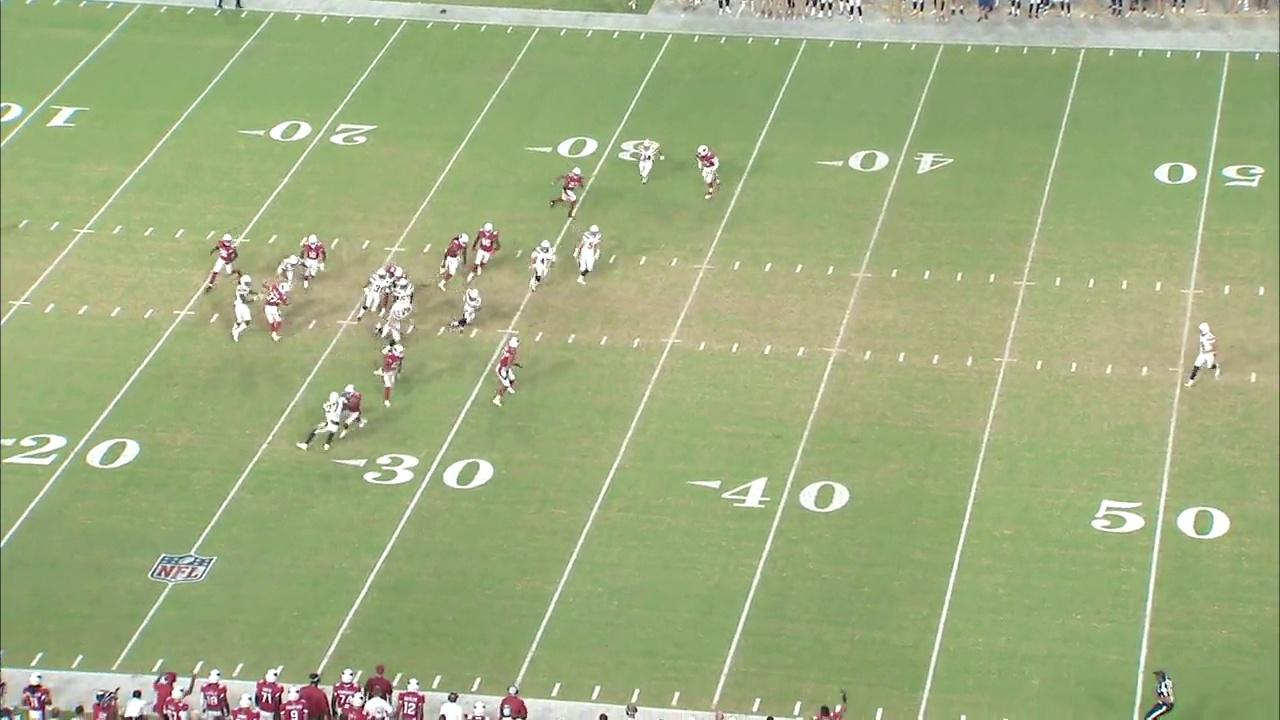five_hash: (1012, 279, 1039, 288), (172, 308, 198, 317), (992, 356, 1020, 364), (658, 337, 684, 345), (8, 299, 33, 307), (1179, 288, 1206, 295), (336, 318, 359, 326), (692, 263, 717, 270), (72, 227, 96, 234), (496, 328, 521, 334), (823, 347, 848, 353), (384, 246, 406, 252), (850, 273, 874, 278), (233, 237, 252, 243)
hash: (42, 301, 57, 317), (636, 253, 651, 268), (108, 223, 124, 237), (264, 233, 280, 247), (985, 270, 998, 287), (171, 226, 186, 240), (1138, 364, 1152, 378), (208, 311, 222, 325), (76, 303, 90, 317), (46, 220, 61, 233), (358, 238, 373, 251), (1068, 359, 1081, 374), (140, 226, 156, 238), (963, 354, 975, 370), (795, 344, 807, 360), (920, 267, 933, 281), (1084, 275, 1097, 289), (1102, 362, 1115, 376), (861, 348, 874, 362), (695, 339, 708, 353), (142, 307, 156, 320), (824, 262, 836, 277), (1152, 279, 1164, 294), (1221, 283, 1233, 298), (1033, 358, 1045, 373), (762, 342, 774, 357), (729, 340, 741, 355), (566, 332, 578, 347), (605, 252, 618, 265), (436, 324, 449, 337), (109, 305, 122, 318), (16, 218, 30, 230), (329, 236, 341, 250), (888, 266, 900, 280), (954, 270, 966, 284), (930, 352, 942, 366), (895, 351, 907, 365), (630, 336, 642, 350), (598, 334, 610, 348), (512, 248, 525, 260), (667, 255, 679, 268), (730, 260, 742, 273), (762, 262, 774, 275), (533, 330, 545, 343), (404, 324, 417, 336), (1119, 278, 1130, 292), (204, 229, 216, 241), (421, 243, 433, 255), (306, 318, 318, 330), (793, 262, 804, 275), (1053, 275, 1064, 288), (468, 327, 479, 340), (1248, 370, 1258, 384), (1257, 285, 1266, 297)
number: (1089, 494, 1234, 544), (2, 431, 144, 475), (720, 471, 855, 517), (361, 448, 497, 493), (1152, 159, 1267, 193), (269, 117, 380, 151), (846, 146, 956, 179)
